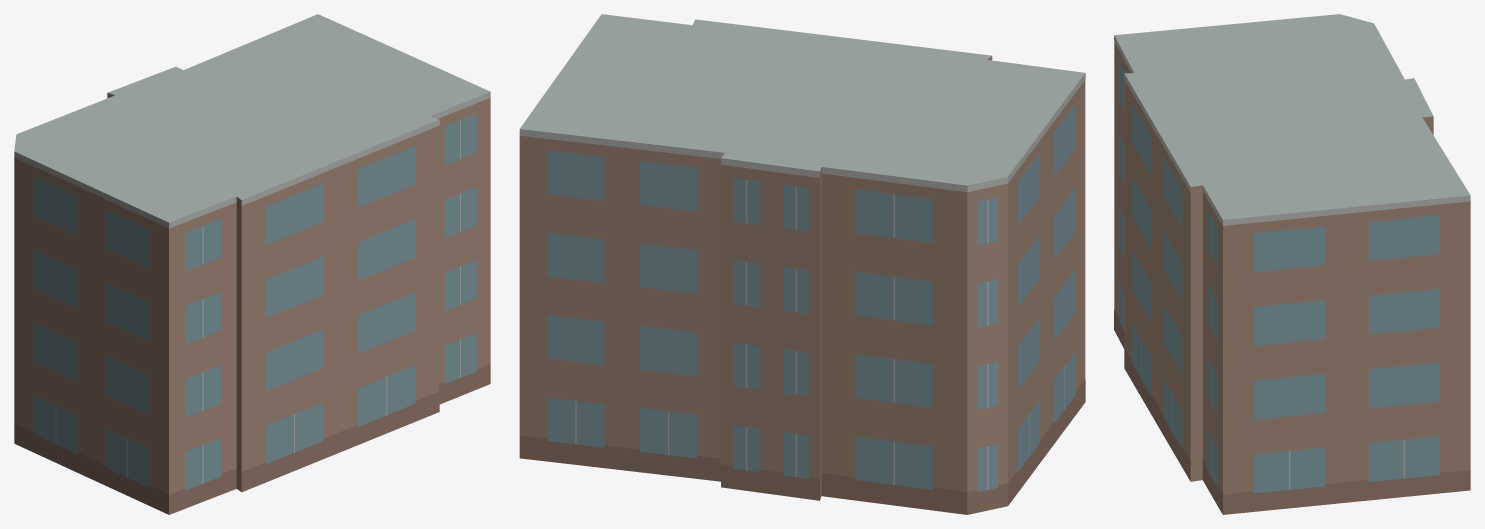
Rendered from survey-upis-32618684.glb.
3 views of the same model, side by side, from view 1: azimuth 30°, elevation 25°; view 2: azimuth 150°, elevation 25°; view 3: azimuth 270°, elevation 25° (orthographic). The views are drawn at different scales.
Parts seen in each view (by area): view 1: survey-upis-32618684.tmp; view 2: survey-upis-32618684.tmp; view 3: survey-upis-32618684.tmp.
Part boxes in pixels (x1,y1,x2,y2): survey-upis-32618684.tmp: (14, 14, 490, 514); survey-upis-32618684.tmp: (519, 14, 1085, 514); survey-upis-32618684.tmp: (1114, 14, 1470, 514).
Bounding box in the file's own units: 18.22 × 12.15 × 13.33.
